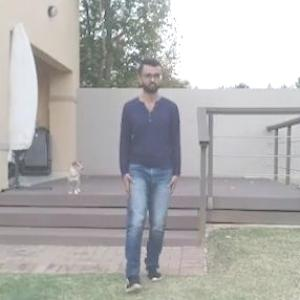follow: (118, 54, 183, 297)
